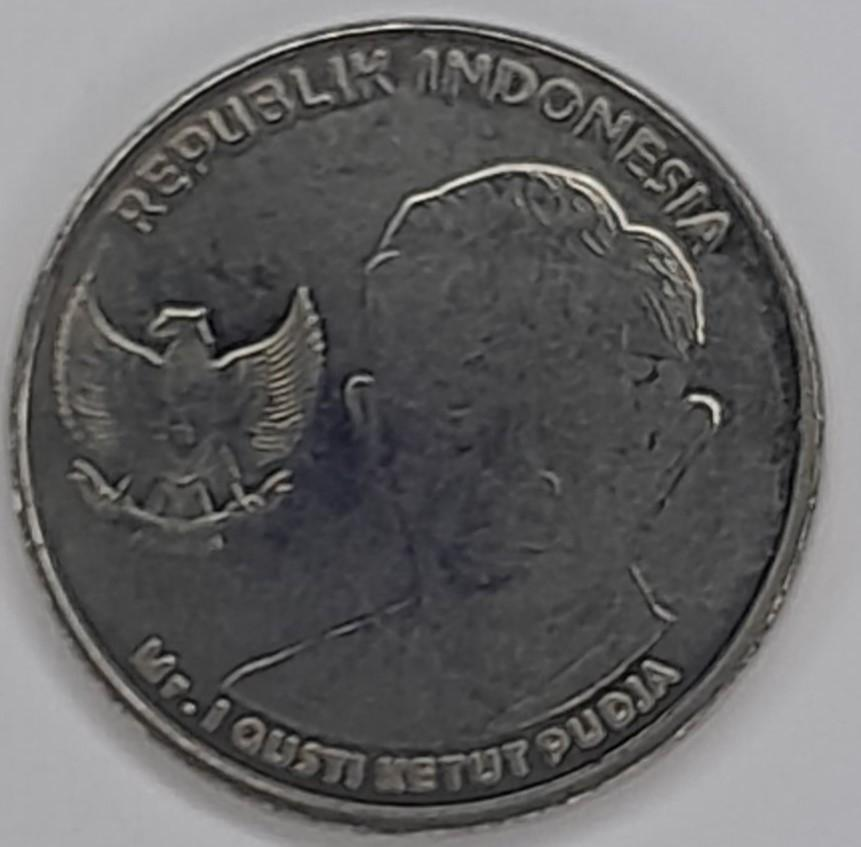coin_1000_e2016: (15, 17, 850, 847)
